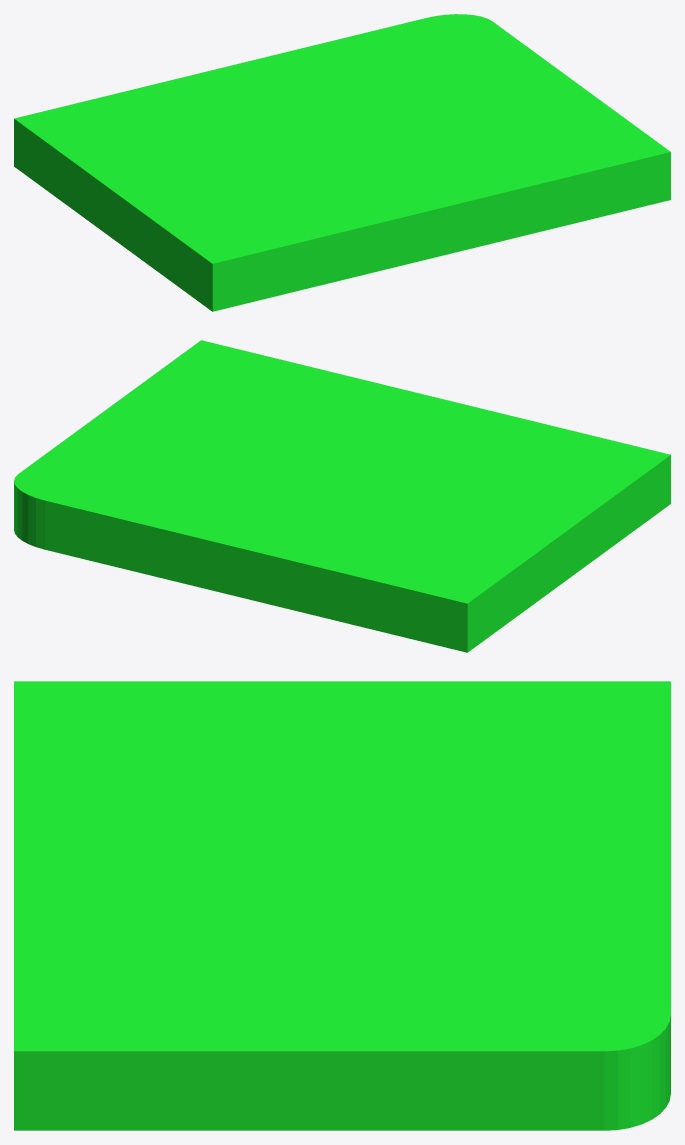
File: green mining board.fbx
3 views of the same model, one above another, from view 1: azimuth 30°, elevation 25°; view 2: azimuth 150°, elevation 25°; view 3: azimuth 270°, elevation 25° (orthographic). The views are drawn at different scales.
Visible parts, largest first — view 1: Cube.004; view 2: Cube.004; view 3: Cube.004.
Part boxes in pixels (box(x1,y1,x2,y2)): Cube.004: box(14, 14, 670, 311); Cube.004: box(14, 340, 670, 652); Cube.004: box(14, 681, 670, 1130).
Bounding box in the file's own units: 200 × 20 × 150.
